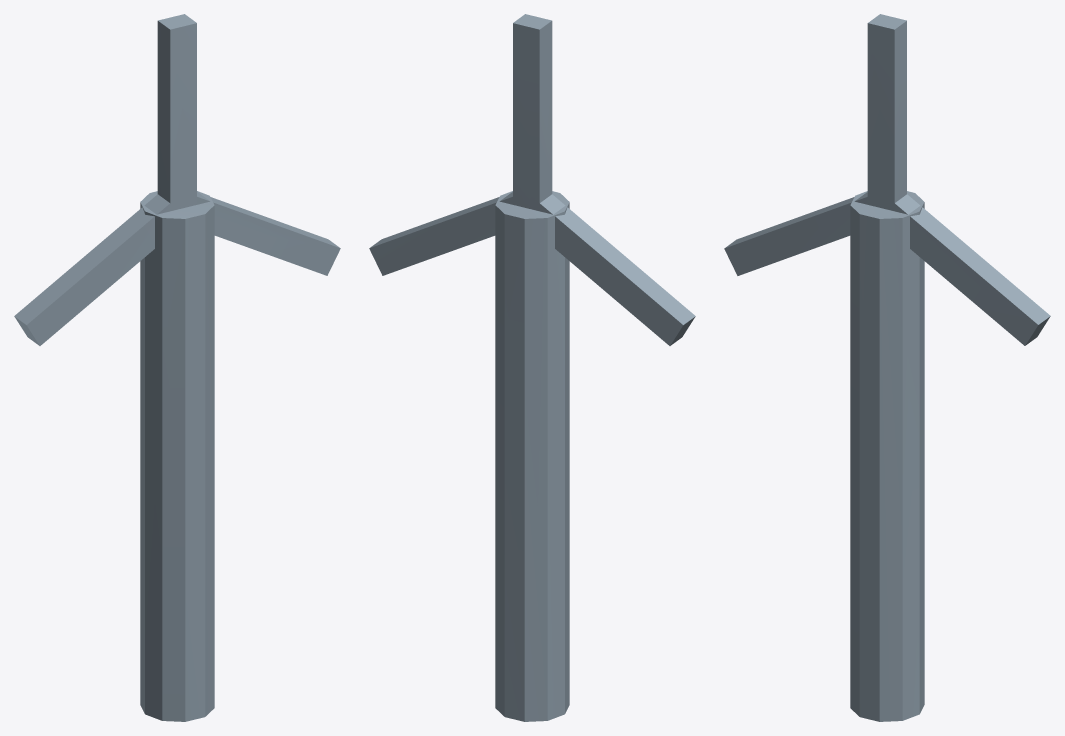
The model's file is wind_turbine-07.glb.
The picture shows the model from 3 angles, left to right: view 1: azimuth 30°, elevation 25°; view 2: azimuth 150°, elevation 25°; view 3: azimuth 330°, elevation 25°; orthographic projection.
Visible parts, largest first — view 1: world; view 2: world; view 3: world.
Part boxes in pixels (x1=…): world: x1=14, y1=14, x2=340, y2=721; world: x1=369, y1=14, x2=695, y2=721; world: x1=724, y1=14, x2=1050, y2=721.
Size of the model in its own units: 1.17 by 2.43 by 0.2283.
